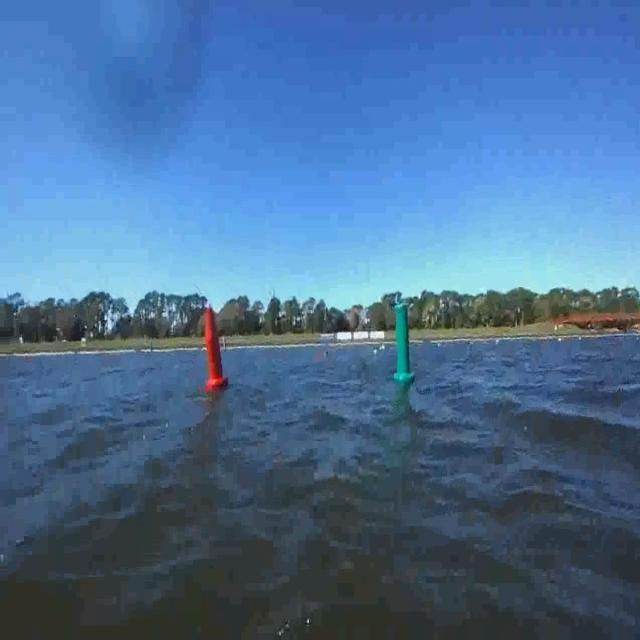green-column-buoy: (393, 303, 414, 384)
red-column-buoy: (202, 307, 227, 392)
